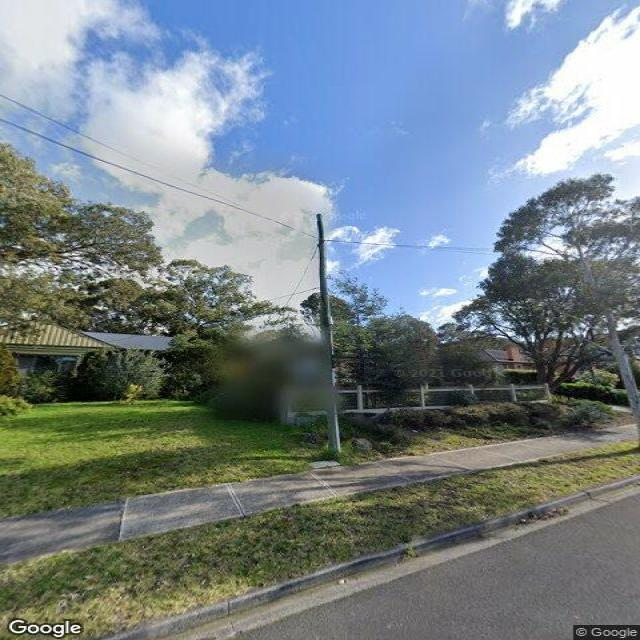timber-pole: (316, 211, 347, 455)
